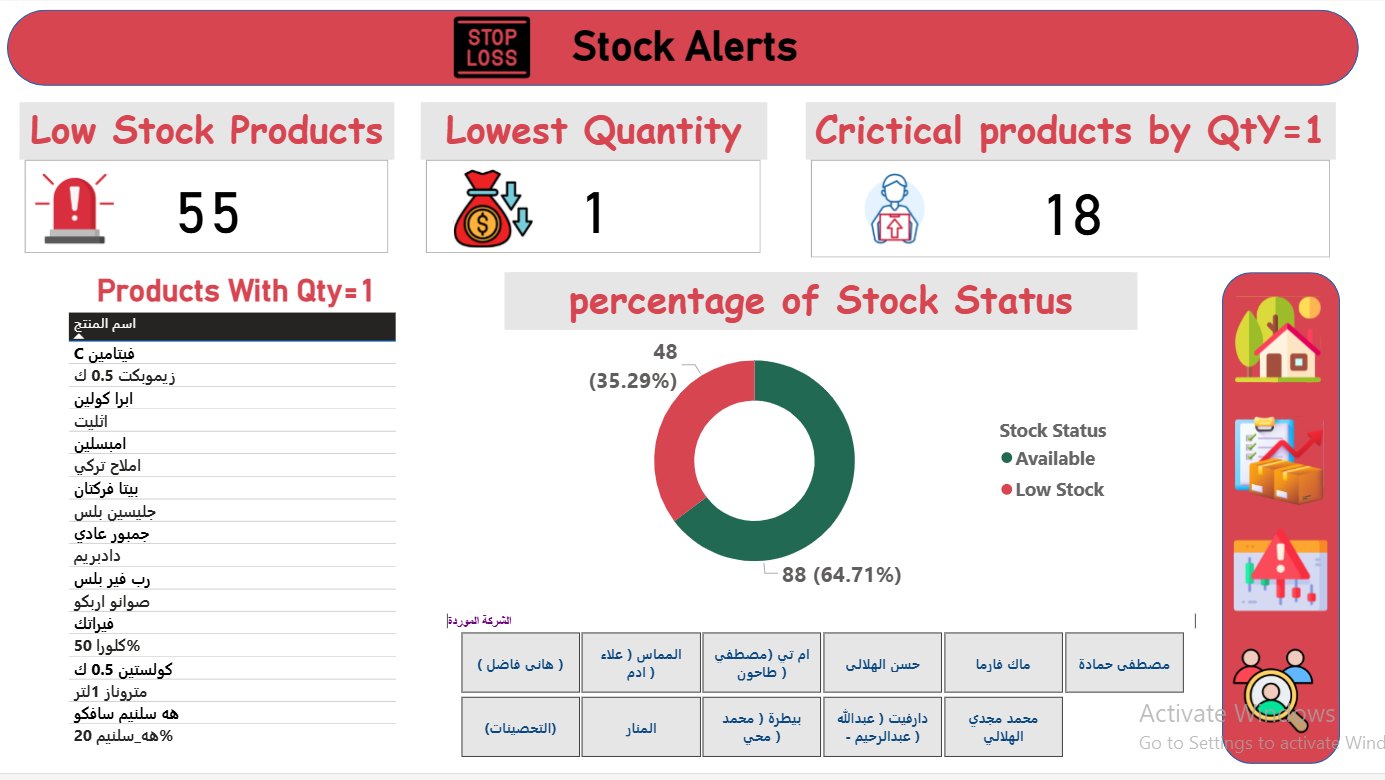

What the dashboard file says about the page in this screenshot:
{"tool":"powerbi","page":{"name":"Stock Alerts","canvas":[1280,720],"ordinal":2},"visuals":[{"type":"shape","box":[9.8,8.6,1260.7,70.9],"z":0},{"type":"actionButton","title":"Stock Alerts","box":[31.8,18.3,1220.4,44],"z":1000},{"type":"actionButton","box":[421.9,3.7,319.2,79.5],"z":2000},{"type":"shape","box":[1142.1,253.1,110.1,458.6],"z":3000},{"type":"actionButton","box":[1150.7,271.5,119.8,88],"z":4000},{"type":"actionButton","box":[1150.7,384,97.8,90.5],"z":5000},{"type":"actionButton","box":[1149.5,483,121.1,95.4],"z":6000},{"type":"actionButton","box":[1142.1,595.5,121.1,95.4],"z":7000},{"type":"cardVisual","title":"Low Stock Products","fields":{"Data":["المخزون.Low Stock Products"]},"box":[20.8,94.2,349.7,146.7],"z":8000},{"type":"actionButton","box":[31.8,152.9,96.6,81.9],"z":9000},{"type":"donutChart","title":"percentage of Stock Status","fields":{"Category":["المخزون.Stock Status"],"Y":["المخزون.Stock Status"]},"box":[473.2,253.1,590.6,303.3],"z":10000},{"type":"cardVisual","title":"Lowest Quantity","fields":{"Data":["المخزون.Lowest Quantity"]},"box":[395,94.2,322.8,146.7],"z":11000},{"type":"actionButton","box":[421.9,152.9,96.6,81.9],"z":12000},{"type":"cardVisual","title":"Crictical products by QtY=1","fields":{"Data":["المخزون.Critical Products"]},"box":[754.5,94.2,494,150.4],"z":13000},{"type":"actionButton","box":[796.1,152.9,90.5,81.9],"z":14000},{"type":"tableEx","title":"Products With Qty=1","fields":{"Values":["المخزون.اسم المنتج"]},"box":[61.1,253.1,325.3,467.1],"z":15000},{"type":"slicer","fields":{"Values":["المخزون.الشركة الموردة "]},"box":[407.2,566.2,723.9,145.5],"z":16000}]}

Visuals, with their boxes on the page's 1280x720 design canvas (x1, y1, x2, y2). These are canvas units, not pixel positions in the 1385x780 screenshot, which may show the page scaled, cropped or inside an application window:
shape: (x1=10, y1=9, x2=1270, y2=80)
"Stock Alerts" actionButton: (x1=32, y1=18, x2=1252, y2=62)
actionButton: (x1=422, y1=4, x2=741, y2=83)
shape: (x1=1142, y1=253, x2=1252, y2=712)
actionButton: (x1=1151, y1=272, x2=1270, y2=360)
actionButton: (x1=1151, y1=384, x2=1248, y2=474)
actionButton: (x1=1150, y1=483, x2=1271, y2=578)
actionButton: (x1=1142, y1=596, x2=1263, y2=691)
"Low Stock Products" cardVisual: (x1=21, y1=94, x2=370, y2=241)
actionButton: (x1=32, y1=153, x2=128, y2=235)
"percentage of Stock Status" donutChart: (x1=473, y1=253, x2=1064, y2=556)
"Lowest Quantity" cardVisual: (x1=395, y1=94, x2=718, y2=241)
actionButton: (x1=422, y1=153, x2=518, y2=235)
"Crictical products by QtY=1" cardVisual: (x1=754, y1=94, x2=1248, y2=245)
actionButton: (x1=796, y1=153, x2=887, y2=235)
"Products With Qty=1" tableEx: (x1=61, y1=253, x2=386, y2=720)
slicer - المخزون.الشركة الموردة : (x1=407, y1=566, x2=1131, y2=712)
